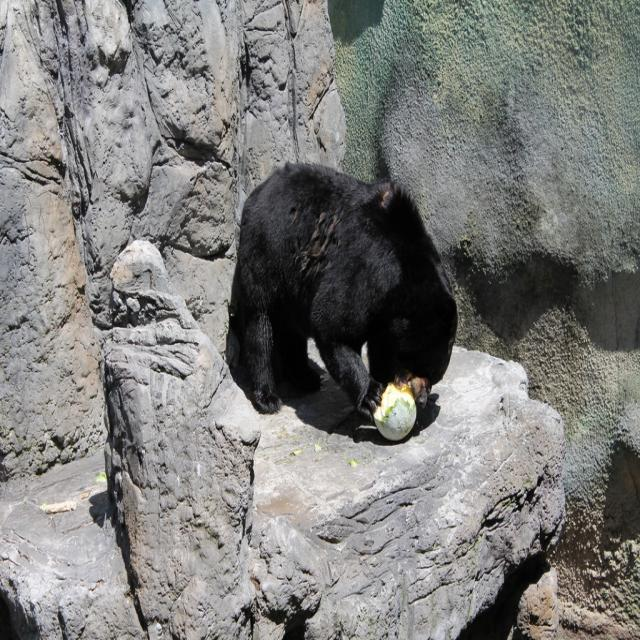Bear: (235, 160, 458, 422)
